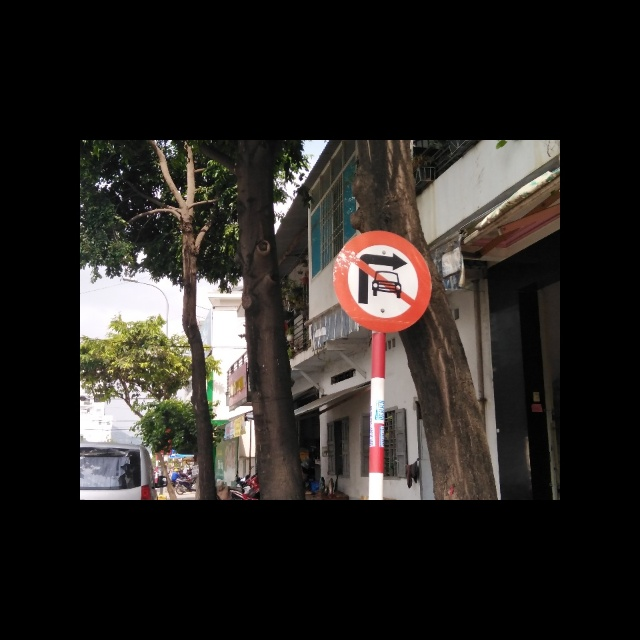Cấm xe ô tô rẽ trái: (331, 228, 433, 332)
